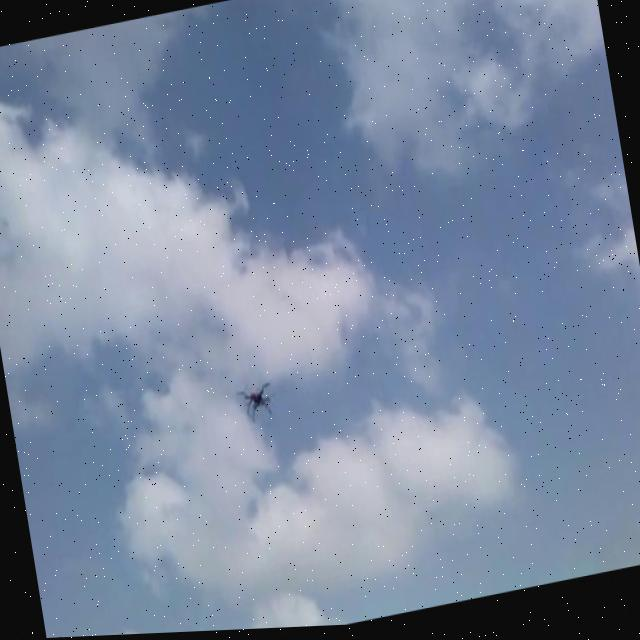drone: (232, 375, 281, 429)
